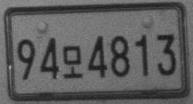1: (133, 34, 153, 77)
3: (157, 33, 176, 76)
4: (87, 35, 107, 78), (40, 37, 59, 79)
8: (110, 34, 130, 76)
9: (16, 38, 35, 80)
모: (63, 45, 83, 78)
